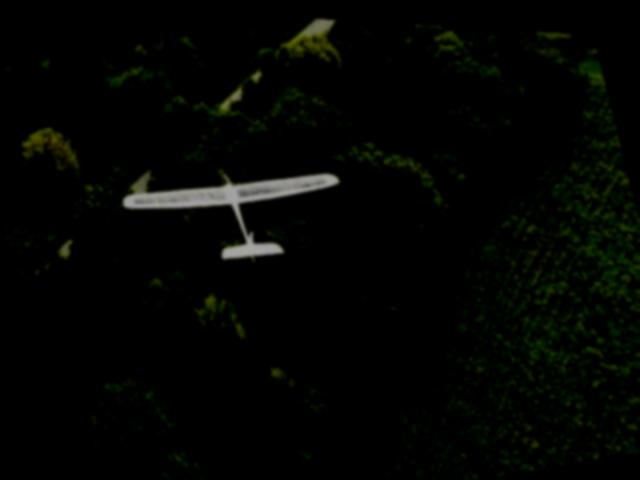uav: (106, 128, 361, 300)
